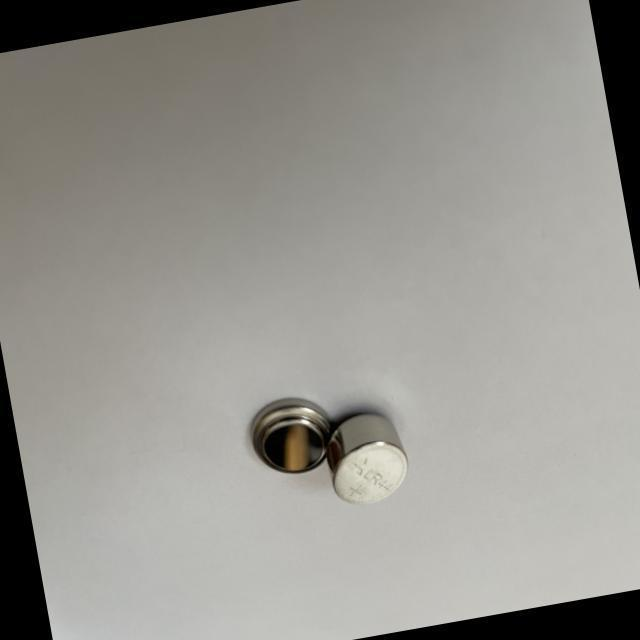COIN: (316, 404, 413, 510), (242, 388, 336, 480)
